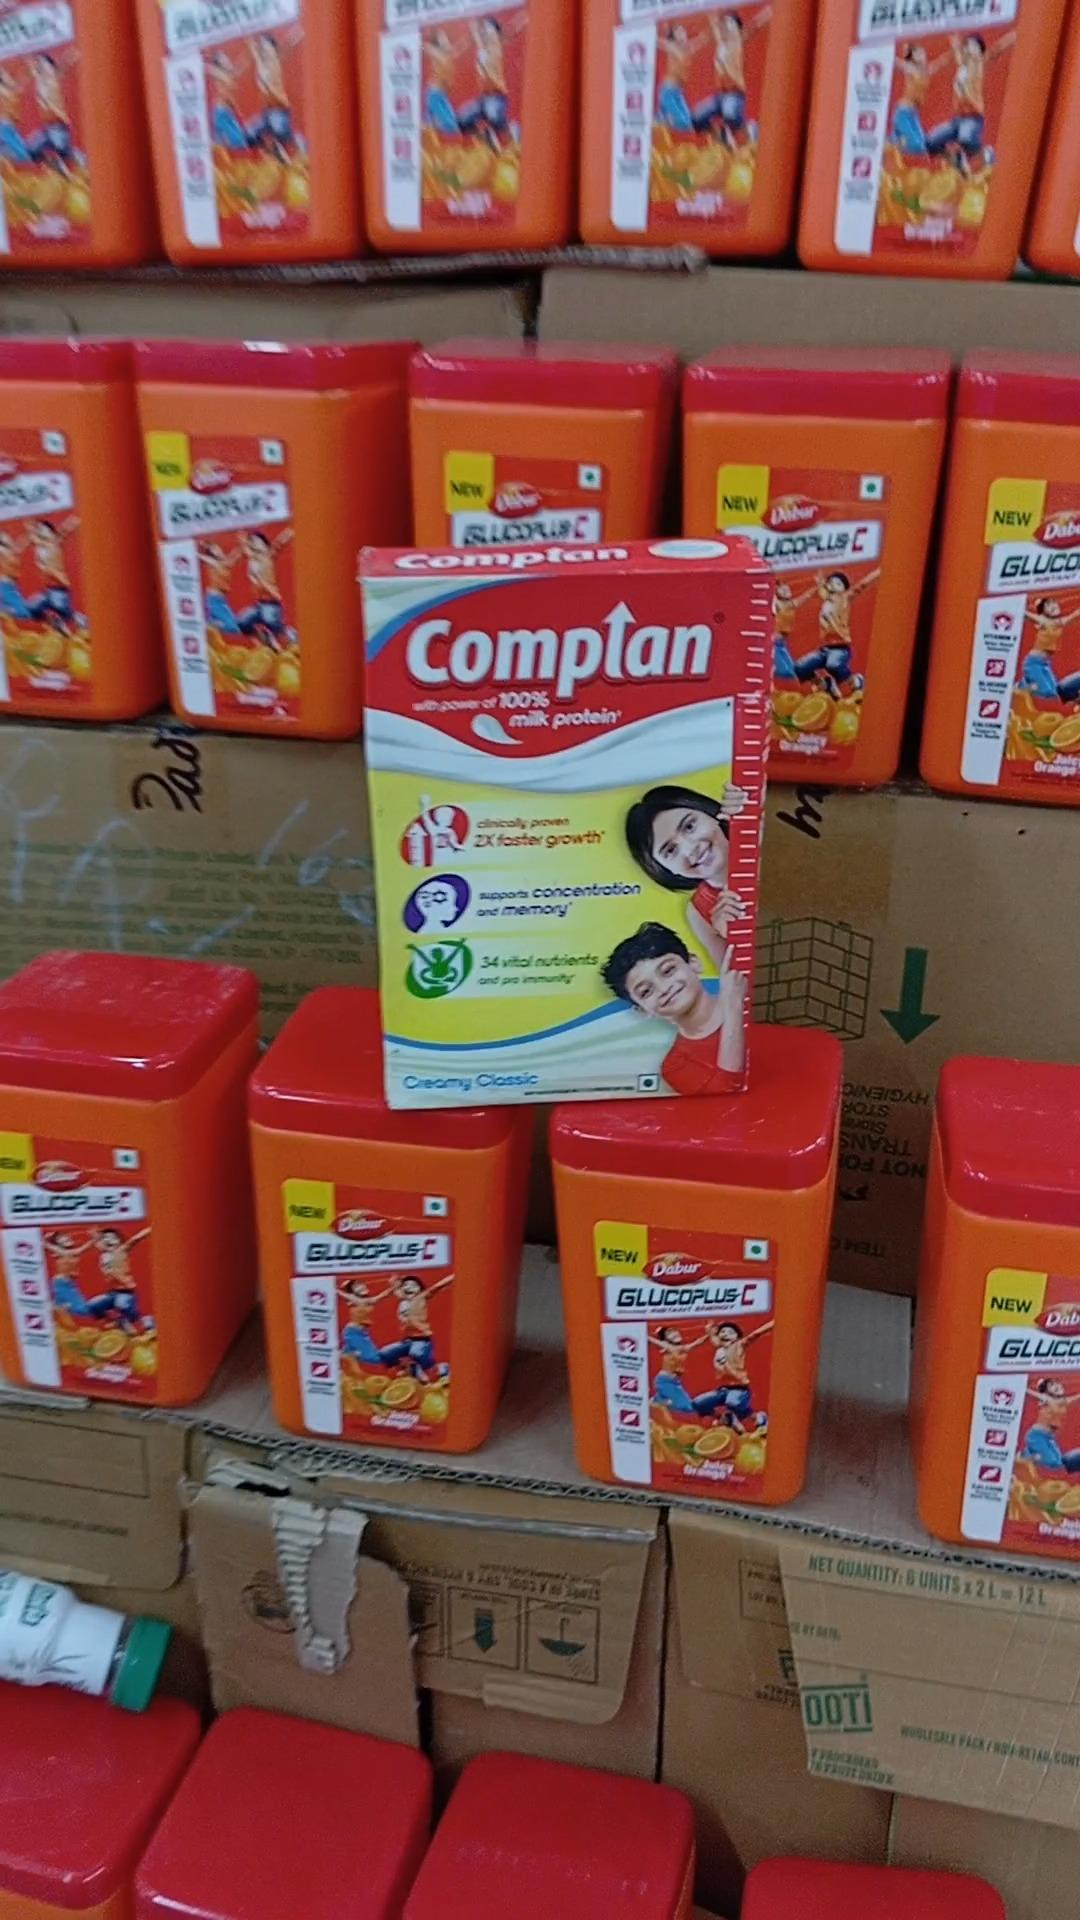COMPLAN_CREAMY_CLASSIC_500_G_PACK: (375, 566, 757, 1106)
